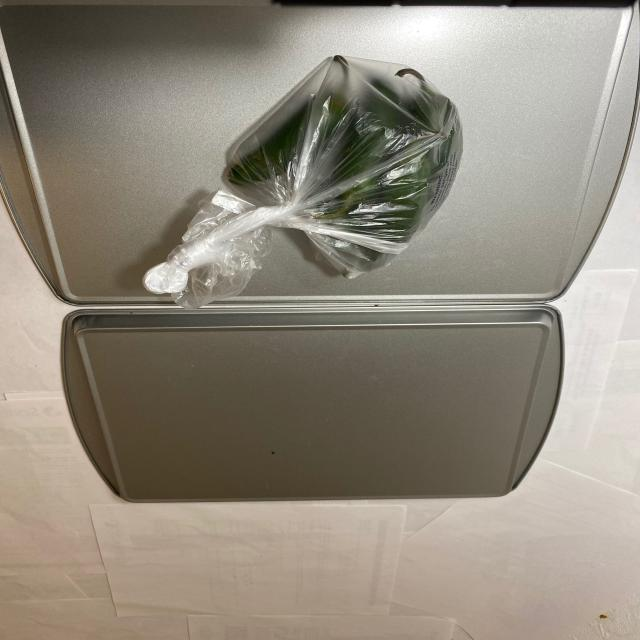chilli: (229, 53, 463, 275)
